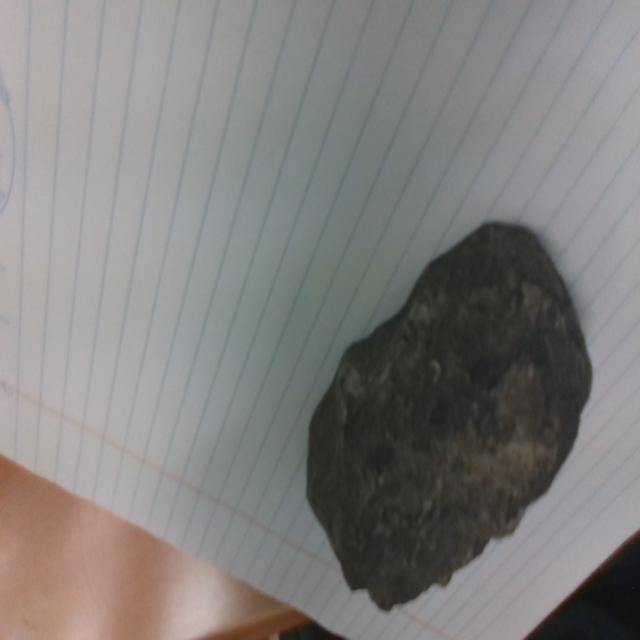stone: (306, 220, 594, 610)
